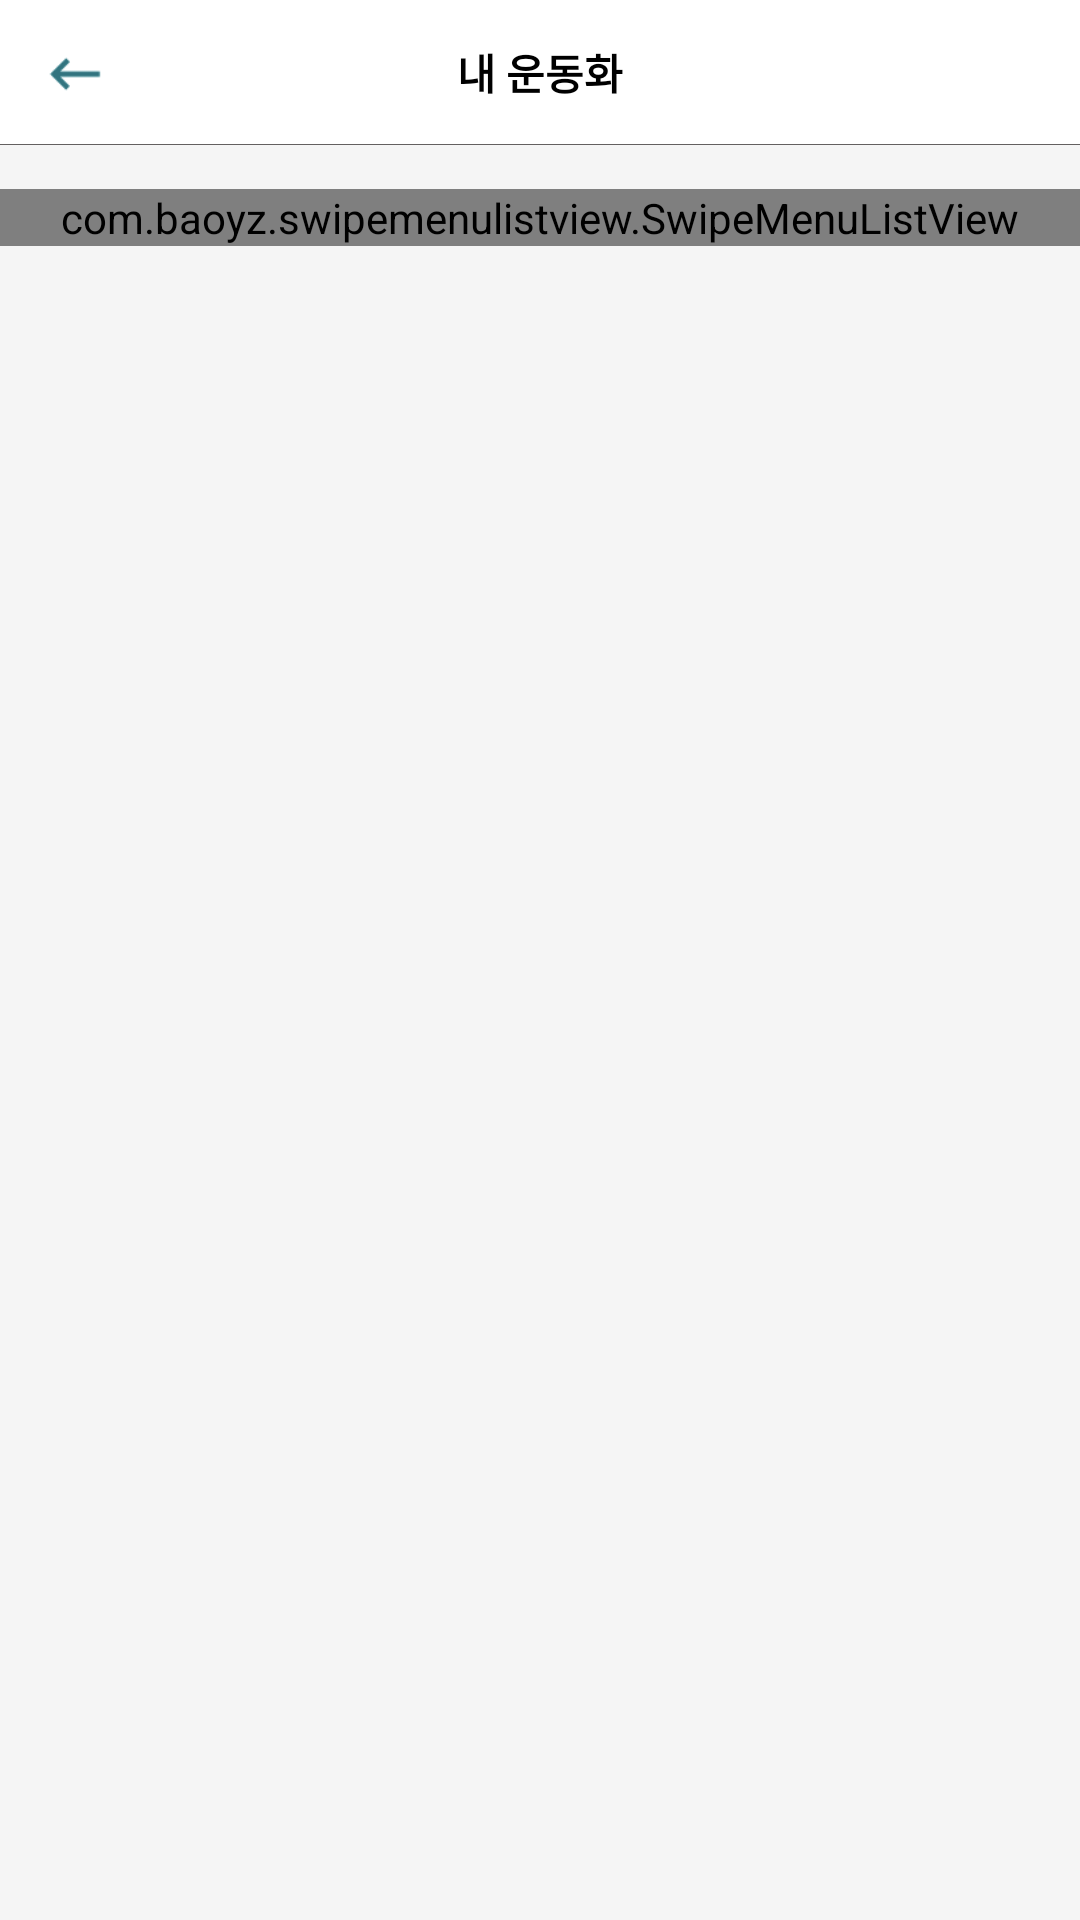

Named icons in this screenshot (1080*1920) and their bounding boxes, (x1, y1, x2, y2):
back: (50, 58, 101, 90)
